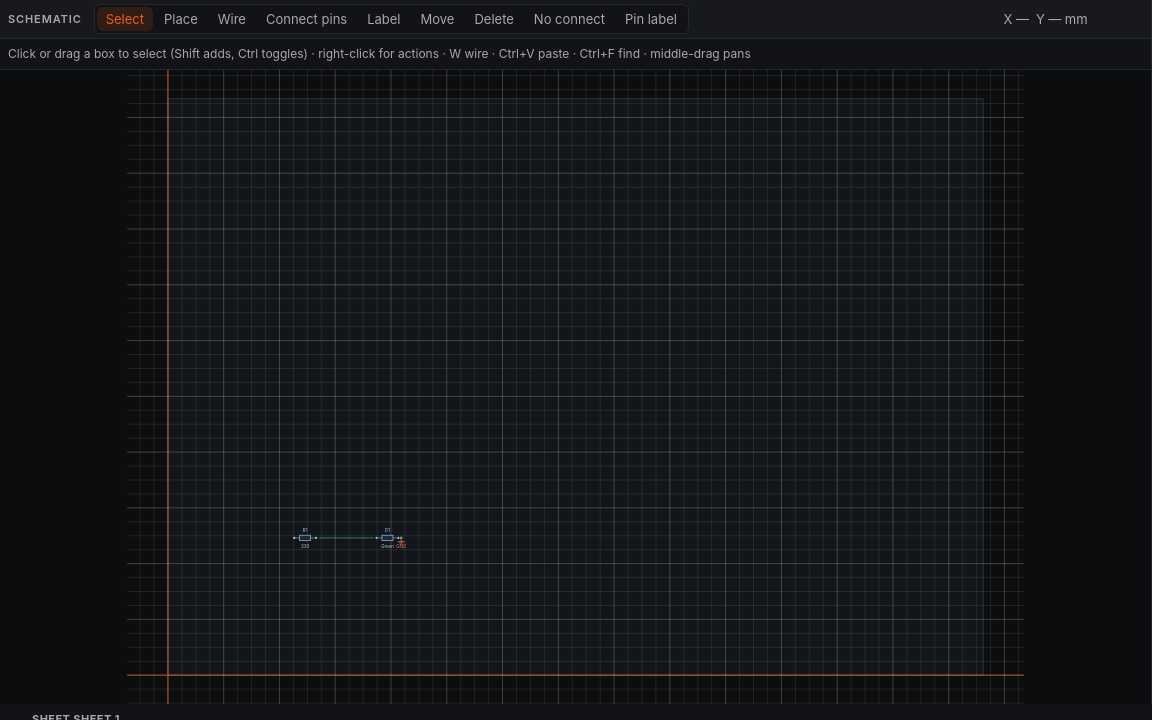
Scenario: tool options mode › schematic Label tool: net name and kind live in the inspector and drive the tool
Later steps or results of the test are not shown.
Click the button "Label": click(384, 19) [358,7,410,31]
(page scrolled)
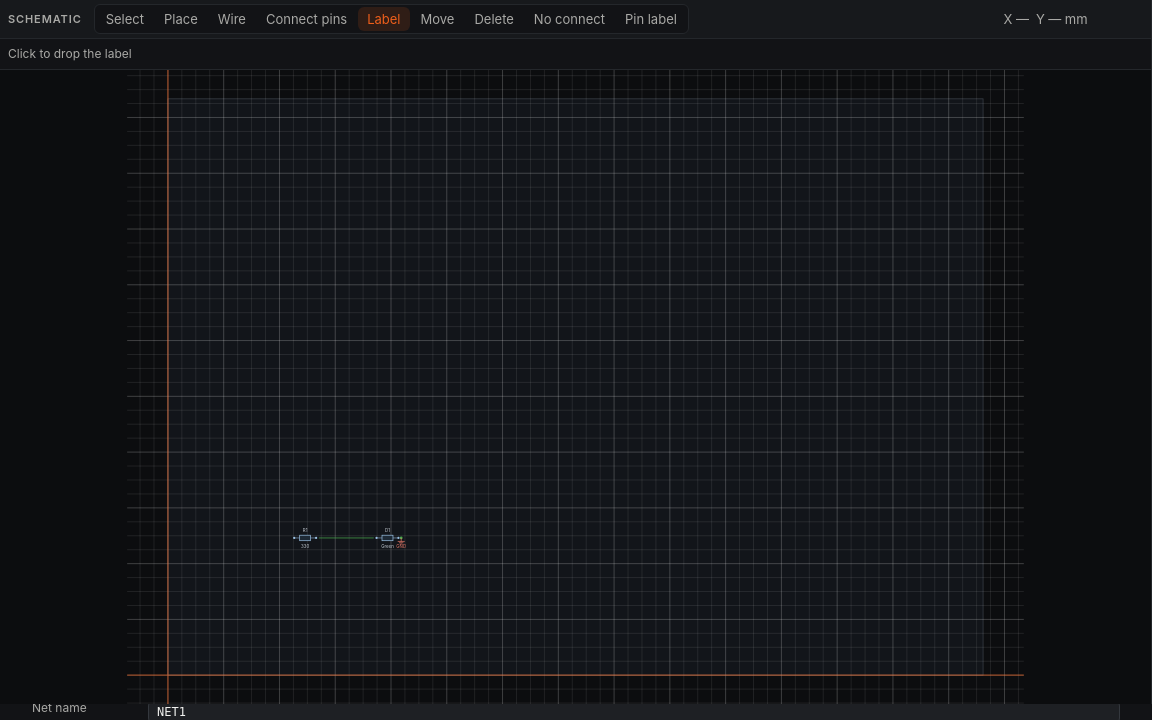
Expected: the number of fields named "Net name" is 1, [148,704,1120,719]
